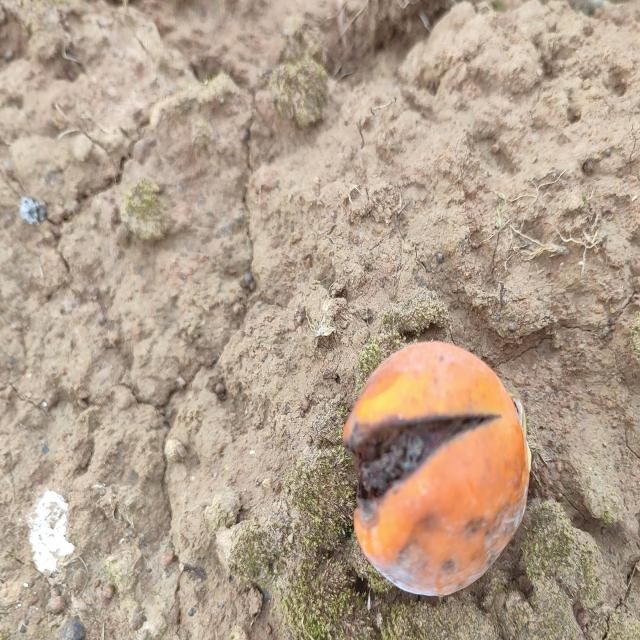damaged: (343, 342, 533, 601)
